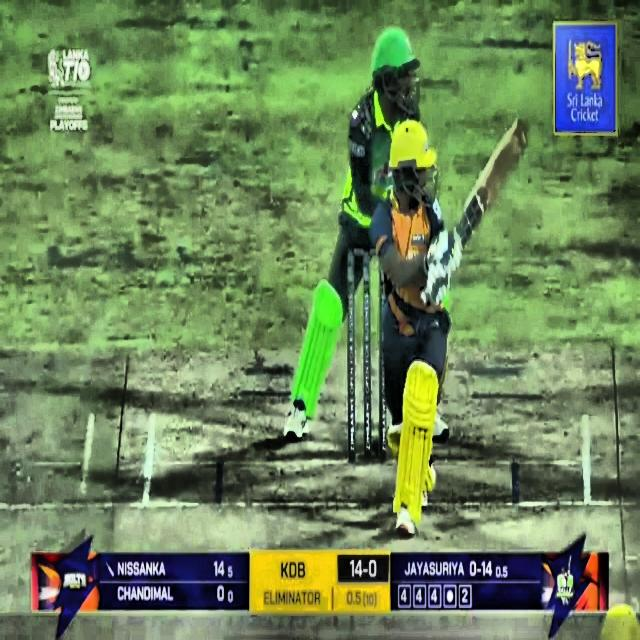Left-stump: (348, 252, 356, 462)
Middle-stump: (364, 257, 371, 457)
Right-stump: (381, 272, 386, 457)
